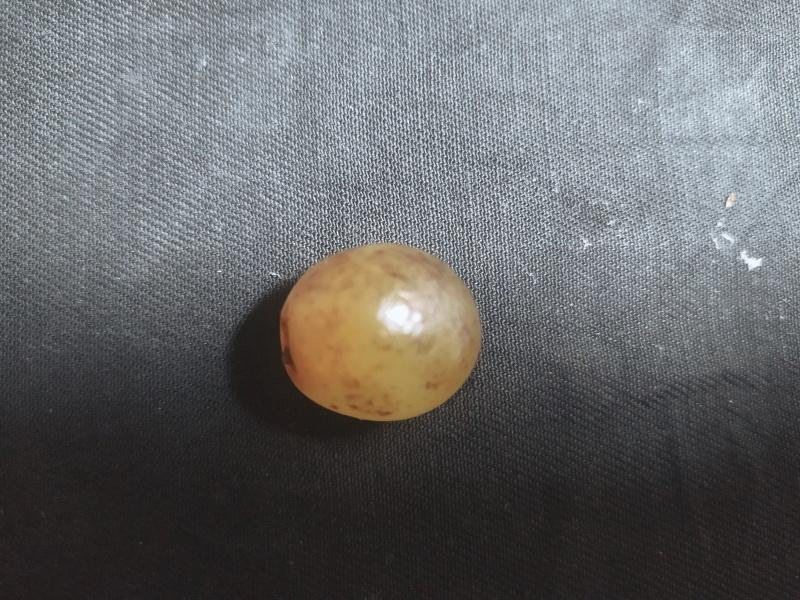Grape Rotten: (276, 239, 484, 425)
